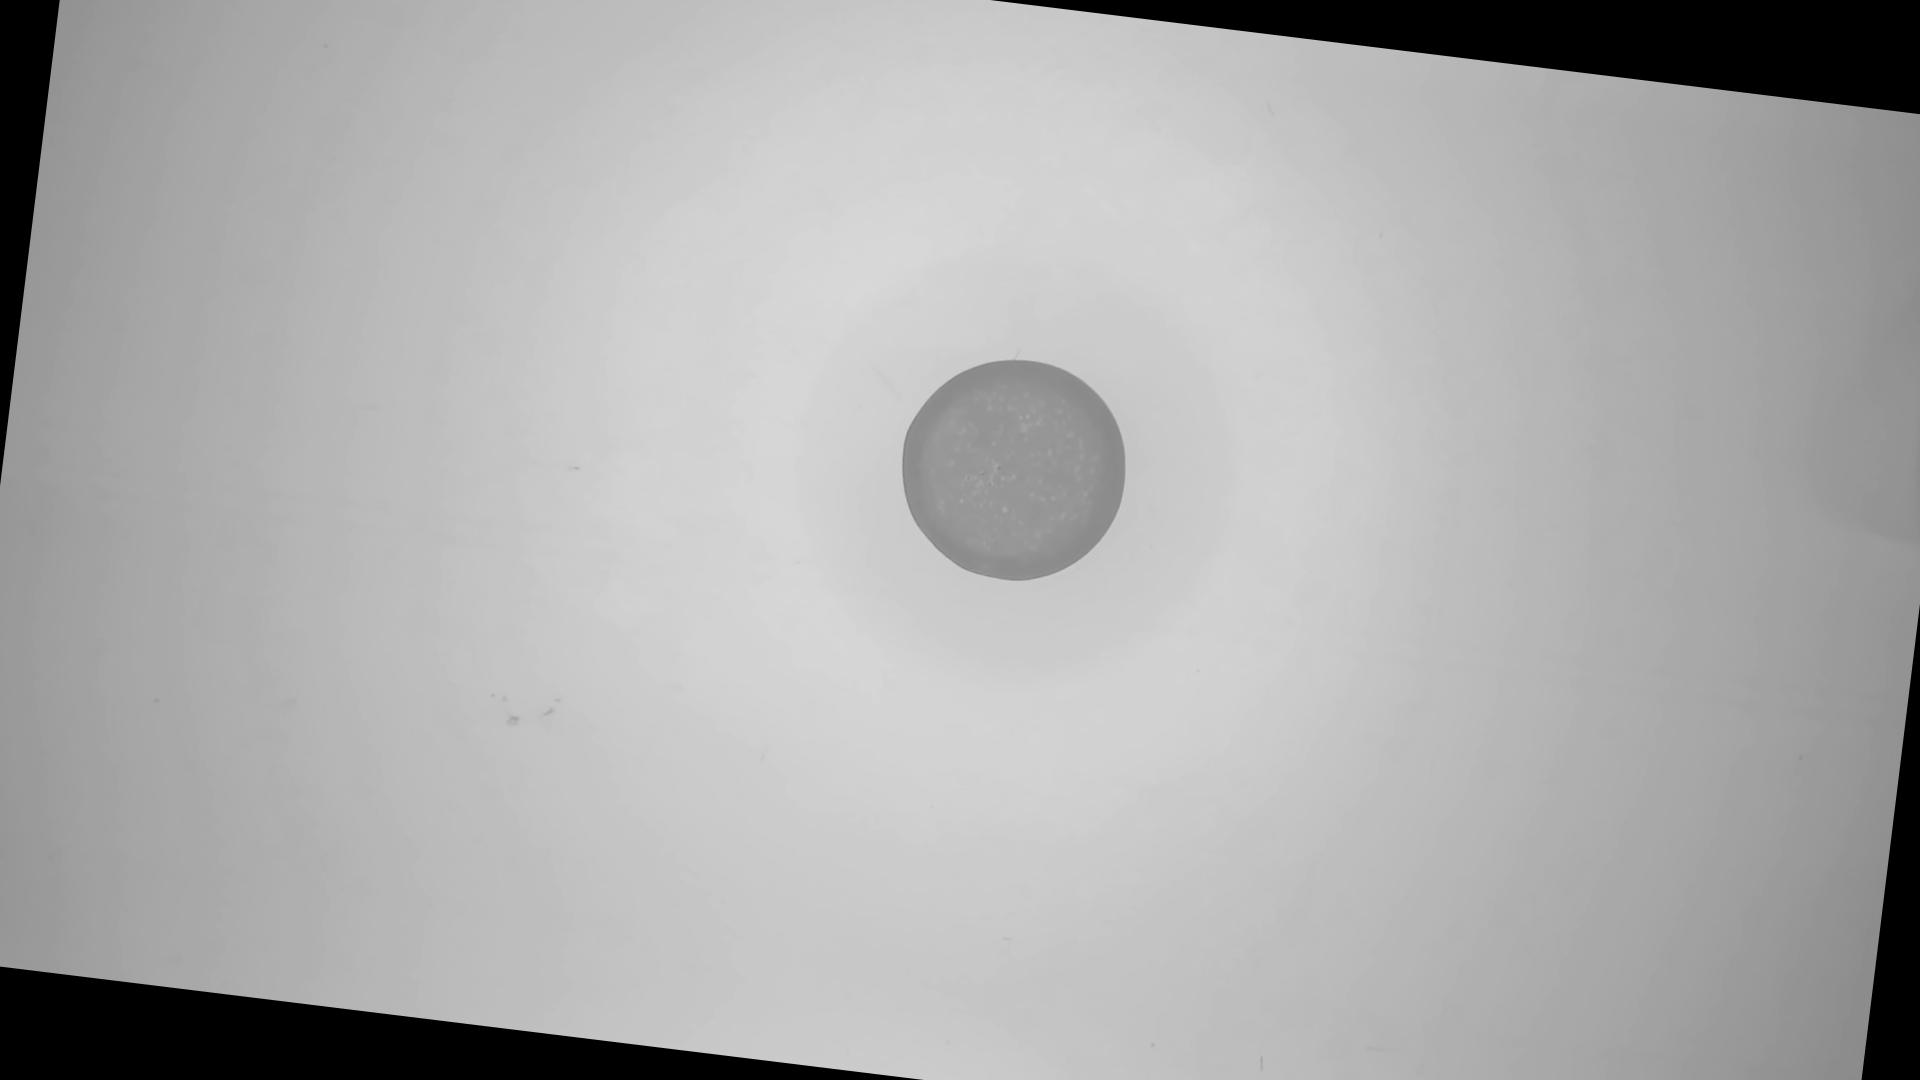normal: (887, 344, 1142, 597)
